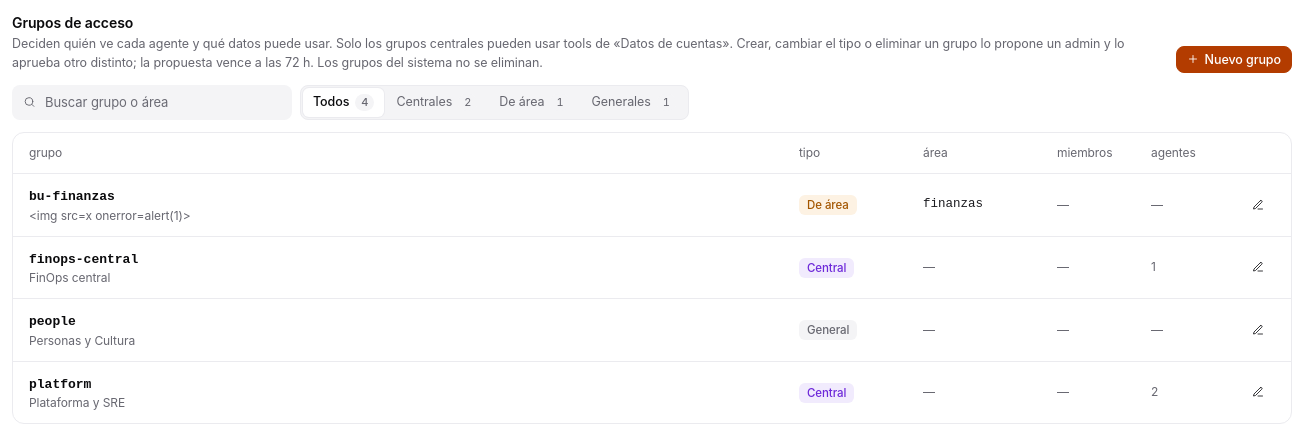
GroupsTab (design groups-admin.jsx) › filters by type and by text, with the count of each type
The width and height of the screenshot is (1304, 441).
Expected: the heading "Grupos de acceso" is shown, [12,14,133,31]
Click the button "Centrales 2" at (437, 102), box [386,88,487,117]
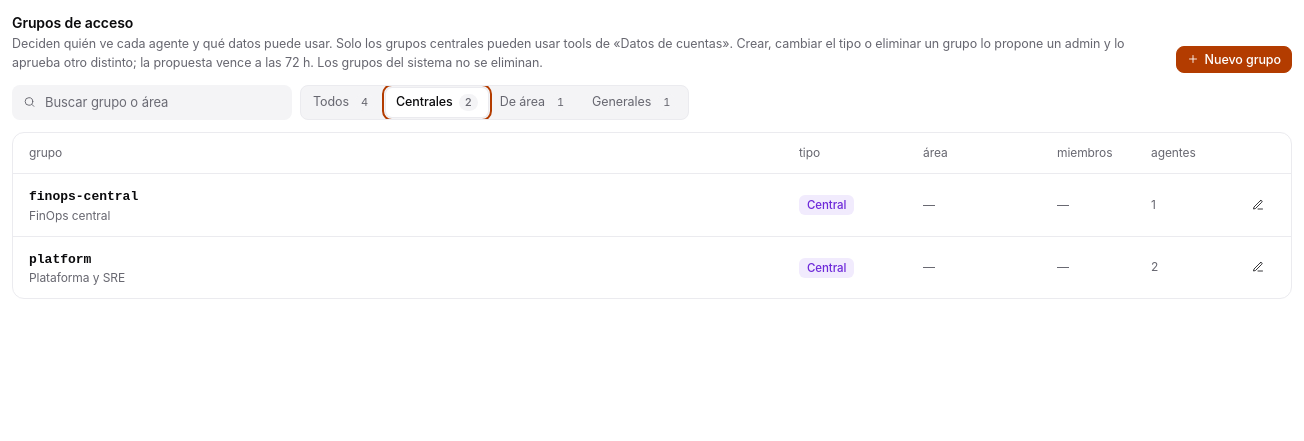
Result: the number of list items is 2 at [13,173,1291,236]; [13,236,1291,298]
Type "SRE" into the search field named "Buscar grupos" at (152, 102), box [12,84,292,120]
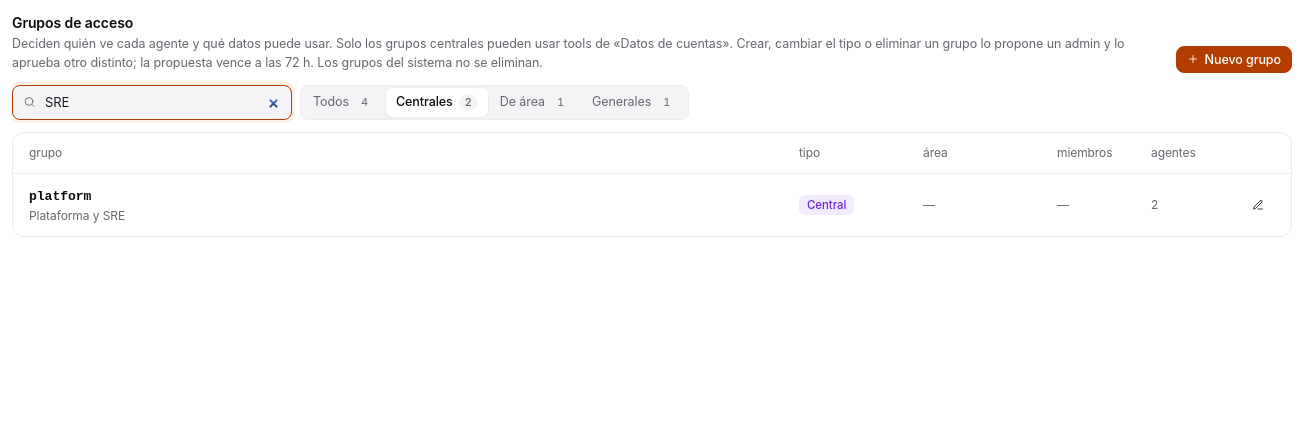
Result: the number of list items is 1 at [13,173,1291,236]
Click the button "Generales 1" at (634, 102), box [582,88,686,117]
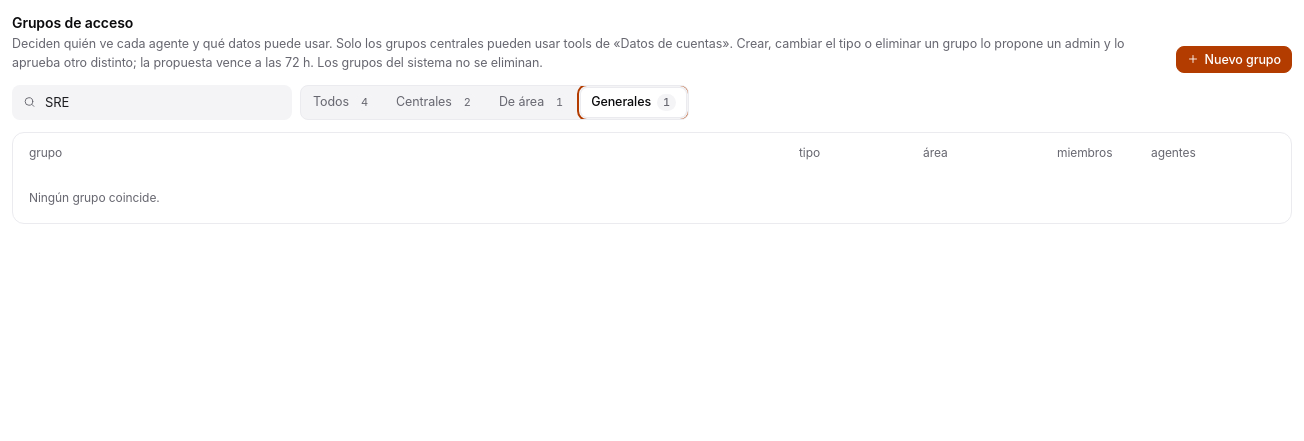
Result: the text "Ningún grupo coincide." is shown at [29,190,160,205]
